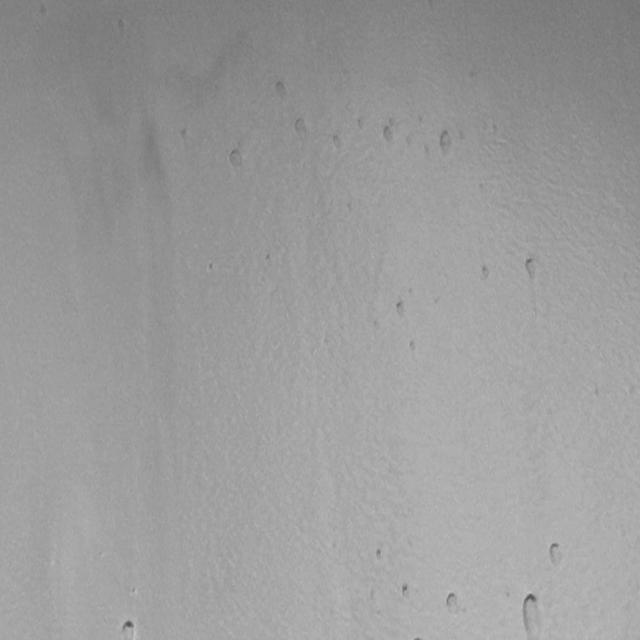pin holes: (520, 590, 552, 638), (442, 591, 465, 618), (545, 542, 566, 570), (225, 146, 247, 172), (436, 129, 456, 157), (270, 77, 292, 102), (522, 255, 542, 282), (290, 116, 310, 140), (397, 581, 416, 604), (379, 123, 397, 147), (120, 619, 140, 640), (177, 124, 196, 146), (393, 298, 410, 320), (35, 0, 52, 21), (330, 131, 346, 153), (479, 263, 493, 282), (203, 261, 218, 278), (374, 546, 388, 564), (262, 251, 276, 269), (408, 338, 420, 356), (354, 116, 366, 130), (118, 20, 125, 40), (130, 586, 140, 598), (424, 144, 431, 159), (493, 122, 499, 134)
